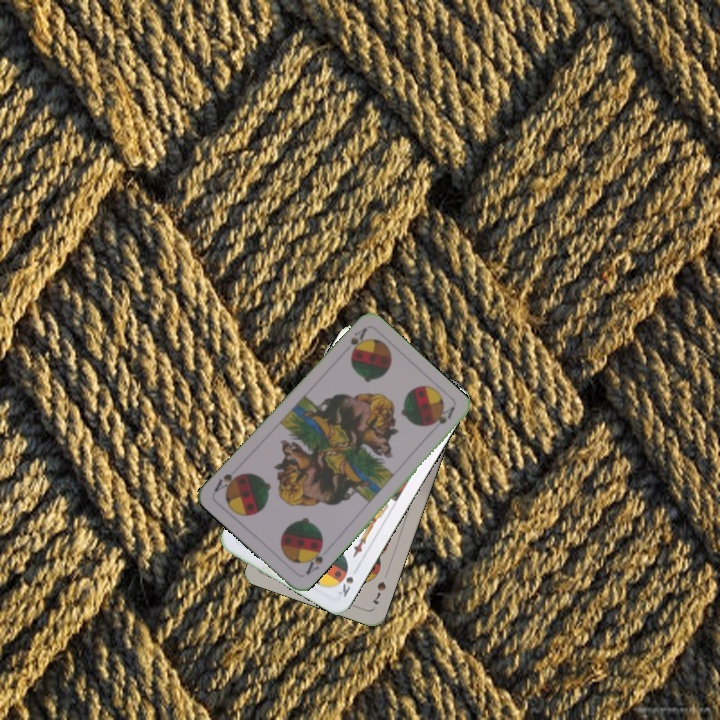S7: (368, 577, 388, 607)
SA: (301, 541, 326, 578), (346, 323, 370, 360)
SK: (333, 572, 356, 600)
